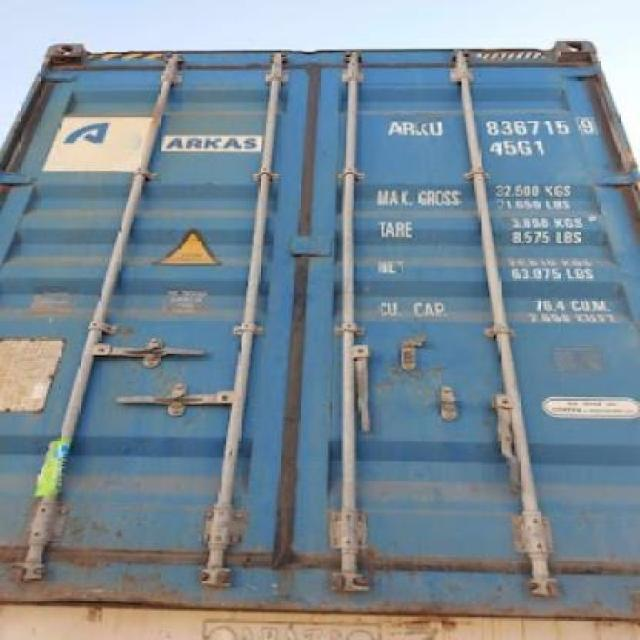ISO: (489, 138, 546, 158)
container_number: (393, 114, 593, 138)
